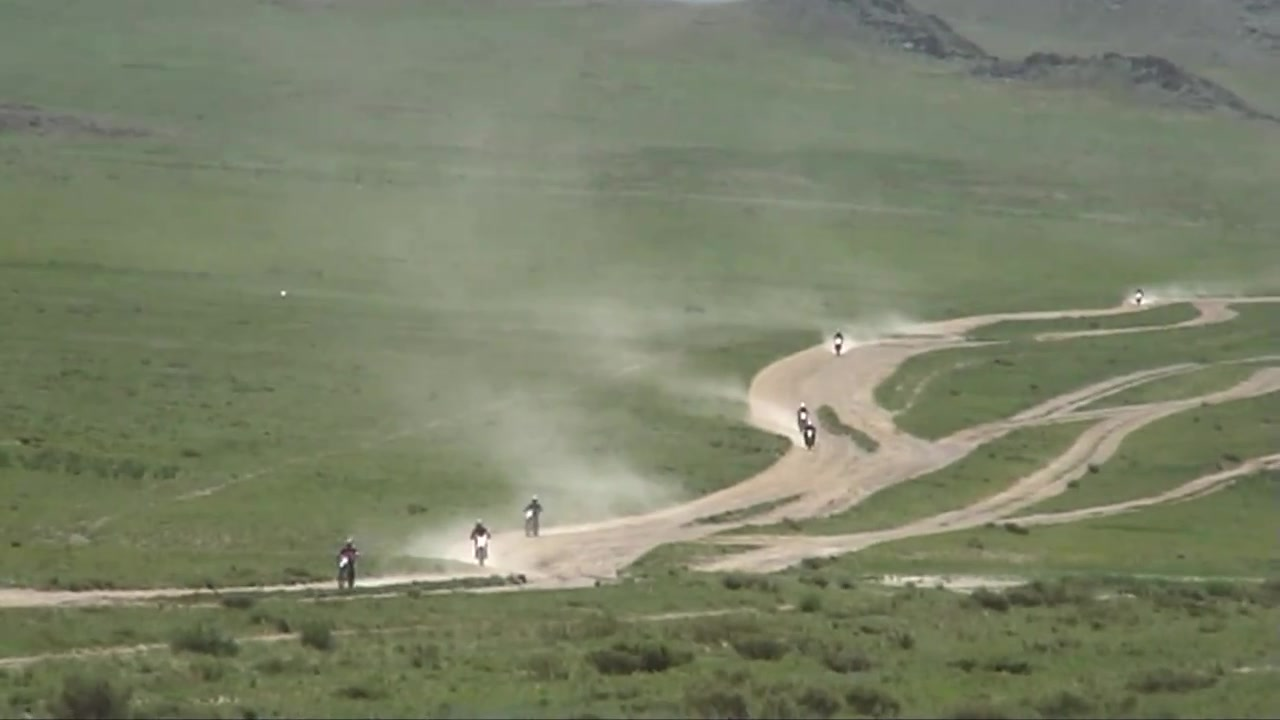motorbike: (332, 550, 366, 592), (471, 534, 494, 564), (520, 503, 540, 535), (831, 339, 851, 363), (801, 425, 819, 447), (794, 412, 810, 432), (1134, 289, 1150, 308)
